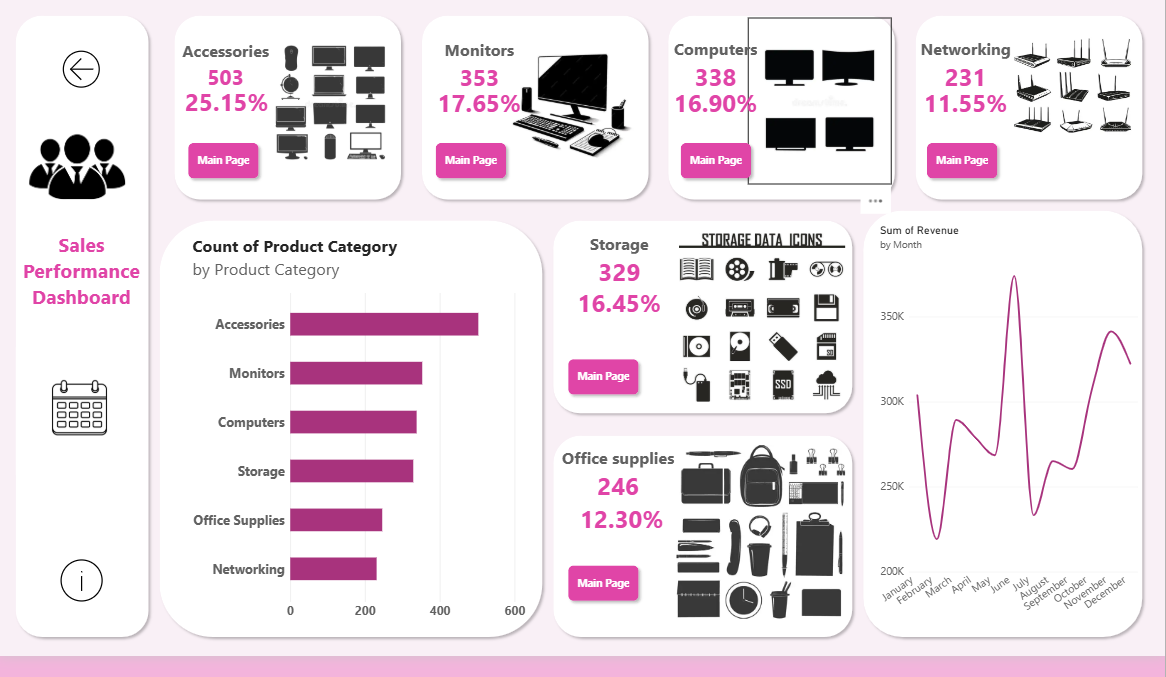

What the dashboard file says about the page in this screenshot:
{"tool":"powerbi","page":{"name":"Home Page","canvas":[1920,1080],"ordinal":0},"visuals":[{"type":"shape","box":[18.5,16.5,236.7,1041.5],"z":0},{"type":"shape","box":[279.9,16.5,391.1,321.1],"z":1000},{"type":"shape","box":[687.5,16.5,391.1,321.1],"z":2000},{"type":"shape","box":[1093,16.5,391.1,321.1],"z":3000},{"type":"shape","box":[1500.5,16.5,391.1,321.1],"z":4000},{"type":"shape","box":[255.2,354,648.4,703.9],"z":5000},{"type":"shape","box":[903.6,354,510.5,335.5],"z":6000},{"type":"shape","box":[1414.1,337.6,477.5,720.4],"z":7000},{"type":"shape","box":[903.6,708.1,510.5,349.9],"z":8000},{"type":"image","box":[436.4,0,218.2,337.6],"z":9000},{"type":"image","box":[827.4,16.5,232.6,304.6],"z":10000},{"type":"image","box":[1232.9,28.8,236.7,273.8],"z":11000},{"type":"image","box":[1663.1,28.8,212,228.5],"z":12000},{"type":"barChart","fields":{"Category":["Table1.Product Category"],"Y":["CountNonNull(Table1.Product Category)"]},"box":[302.6,372.6,580.4,669],"z":13000},{"type":"image","box":[1119.7,372.6,273.8,300.5],"z":14000},{"type":"lineChart","fields":{"Category":["Table1.Date.Variation.Date Hierarchy.Year","Table1.Date.Variation.Date Hierarchy.Quarter","Table1.Date.Variation.Date Hierarchy.Month","Table1.Date.Variation.Date Hierarchy.Day"],"Y":["Sum(Table1.Revenue)"]},"box":[1434.7,354,456.9,687.5],"z":15000},{"type":"image","box":[1115.6,730.7,277.9,290.2],"z":16000},{"type":"cardVisual","fields":{"Data":["Measures (2).Total accessories"]},"box":[236.7,0,273.8,216.1],"z":17000},{"type":"cardVisual","fields":{"Data":["Measures (2).% accessories"]},"box":[238.8,57.6,273.8,216.1],"z":18000},{"type":"cardVisual","fields":{"Data":["Measures (2).Total monitors"]},"box":[654.5,0,273.8,216.1],"z":19000},{"type":"cardVisual","fields":{"Data":["Measures (2).% monitors"]},"box":[654.5,59.7,273.8,216.1],"z":20000},{"type":"cardVisual","fields":{"Data":["Measures (2).Total computers"]},"box":[1043.6,0,273.8,216.1],"z":21000},{"type":"cardVisual","fields":{"Data":["Measures (2).% computers"]},"box":[1043.6,59.7,273.8,216.1],"z":22000},{"type":"cardVisual","fields":{"Data":["Measures (2).Total networking"]},"box":[1455.2,0,273.8,216.1],"z":23000},{"type":"cardVisual","fields":{"Data":["Measures (2).% networking"]},"box":[1455.2,59.7,273.8,216.1],"z":24000},{"type":"cardVisual","fields":{"Data":["Measures (2).Total storage"]},"box":[885.1,321.1,273.8,216.1],"z":25000},{"type":"cardVisual","fields":{"Data":["Measures (2).Total office supplies"]},"box":[883,673.1,273.8,216.1],"z":26000},{"type":"cardVisual","fields":{"Data":["Measures (2).% office supplies"]},"box":[889.2,745.1,273.8,216.1],"z":27000},{"type":"cardVisual","fields":{"Data":["Measures (2).% storage"]},"box":[885.1,389,273.8,216.1],"z":28000},{"type":"actionButton","box":[302.6,226.4,133.8,76.2],"z":29000},{"type":"actionButton","box":[710.1,226.4,133.8,76.2],"z":30000},{"type":"actionButton","box":[1113.6,226.4,133.8,76.2],"z":31000},{"type":"actionButton","box":[1519,226.4,133.8,76.2],"z":32000},{"type":"actionButton","box":[928.3,582.5,133.8,76.2],"z":33000},{"type":"actionButton","box":[928.3,922.1,133.8,76.2],"z":34000},{"type":"textbox","box":[26.8,380.8,218.2,158.5],"z":35000},{"type":"image","box":[26.8,177,203.8,195.5],"z":36000},{"type":"actionButton","box":[59.7,59.7,152.3,109.1],"z":37000},{"type":"actionButton","box":[43.2,883,185.2,146.1],"z":38000},{"type":"image","box":[20.6,572.2,224.4,209.9],"z":39000}]}

Visuals, with their boxes on the page's 1920x1080 design canvas (x1, y1, x2, y2). These are canvas units, not pixel positions in the 1166x677 screenshot, which may show the page scaled, cropped or inside an application window:
shape: rect(18, 16, 255, 1058)
shape: rect(280, 16, 671, 338)
shape: rect(688, 16, 1079, 338)
shape: rect(1093, 16, 1484, 338)
shape: rect(1500, 16, 1892, 338)
shape: rect(255, 354, 904, 1058)
shape: rect(904, 354, 1414, 690)
shape: rect(1414, 338, 1892, 1058)
shape: rect(904, 708, 1414, 1058)
image: rect(436, 0, 655, 338)
image: rect(827, 16, 1060, 321)
image: rect(1233, 29, 1470, 303)
image: rect(1663, 29, 1875, 257)
barChart - Table1.Product Category x CountNonNull(Table1.Product Category): rect(303, 373, 883, 1042)
image: rect(1120, 373, 1394, 673)
lineChart - Table1.Date.Variation.Date Hierarchy.Year x Table1.Date.Variation.Date Hierarchy.Quarter: rect(1435, 354, 1892, 1042)
image: rect(1116, 731, 1394, 1021)
cardVisual - Measures (2).Total accessories: rect(237, 0, 510, 216)
cardVisual - Measures (2).% accessories: rect(239, 58, 513, 274)
cardVisual - Measures (2).Total monitors: rect(654, 0, 928, 216)
cardVisual - Measures (2).% monitors: rect(654, 60, 928, 276)
cardVisual - Measures (2).Total computers: rect(1044, 0, 1317, 216)
cardVisual - Measures (2).% computers: rect(1044, 60, 1317, 276)
cardVisual - Measures (2).Total networking: rect(1455, 0, 1729, 216)
cardVisual - Measures (2).% networking: rect(1455, 60, 1729, 276)
cardVisual - Measures (2).Total storage: rect(885, 321, 1159, 537)
cardVisual - Measures (2).Total office supplies: rect(883, 673, 1157, 889)
cardVisual - Measures (2).% office supplies: rect(889, 745, 1163, 961)
cardVisual - Measures (2).% storage: rect(885, 389, 1159, 605)
actionButton: rect(303, 226, 436, 303)
actionButton: rect(710, 226, 844, 303)
actionButton: rect(1114, 226, 1247, 303)
actionButton: rect(1519, 226, 1653, 303)
actionButton: rect(928, 582, 1062, 659)
actionButton: rect(928, 922, 1062, 998)
textbox: rect(27, 381, 245, 539)
image: rect(27, 177, 231, 372)
actionButton: rect(60, 60, 212, 169)
actionButton: rect(43, 883, 228, 1029)
image: rect(21, 572, 245, 782)
